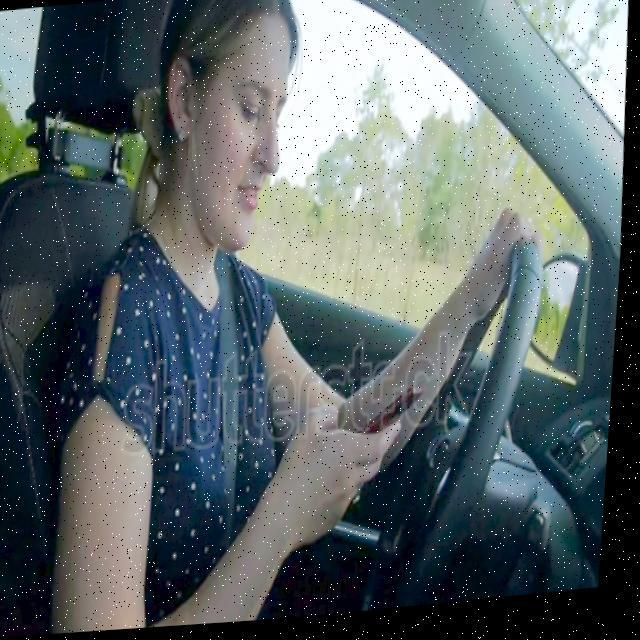PhoneCall: (348, 391, 433, 451)
